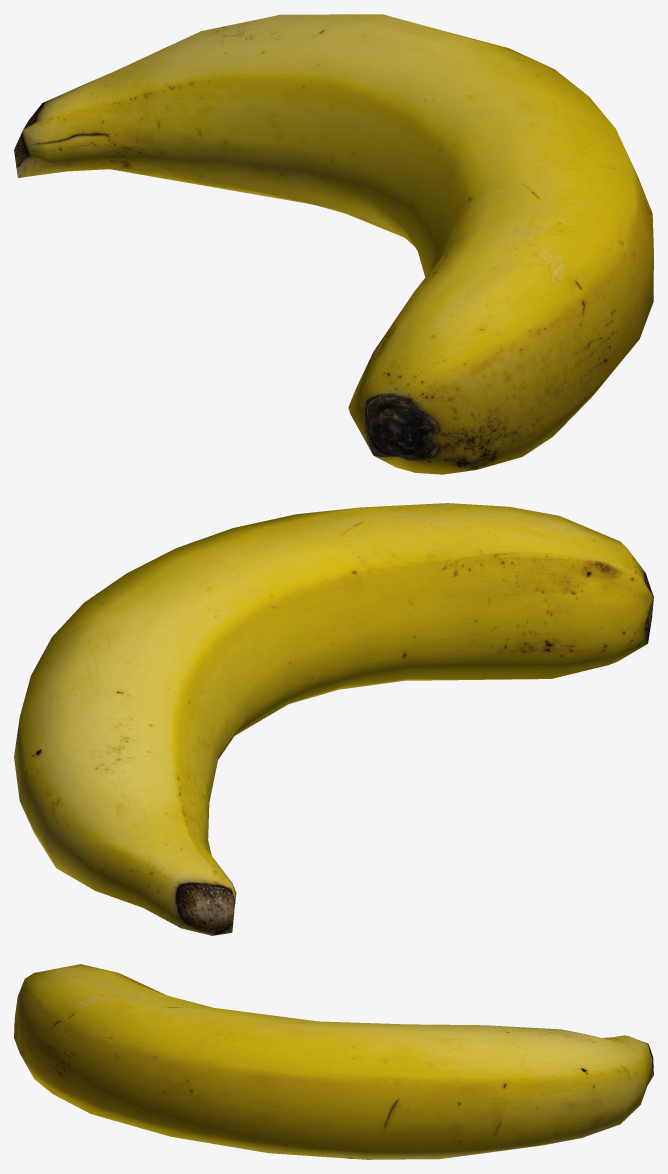
The picture shows the model from 3 angles, top to bottom: view 1: azimuth 30°, elevation 25°; view 2: azimuth 150°, elevation 25°; view 3: azimuth 270°, elevation 25°; orthographic projection. The views are drawn at different scales.
Parts seen in each view (by area): view 1: Banana; view 2: Banana; view 3: Banana.
Part boxes in pixels (box(x1,y1,x2,y2)): Banana: box(14, 14, 653, 474); Banana: box(14, 503, 653, 935); Banana: box(14, 964, 653, 1159).
Size of the model in its own units: 0.0804 by 0.0331 by 0.1487.
1 material, 1 textured.
